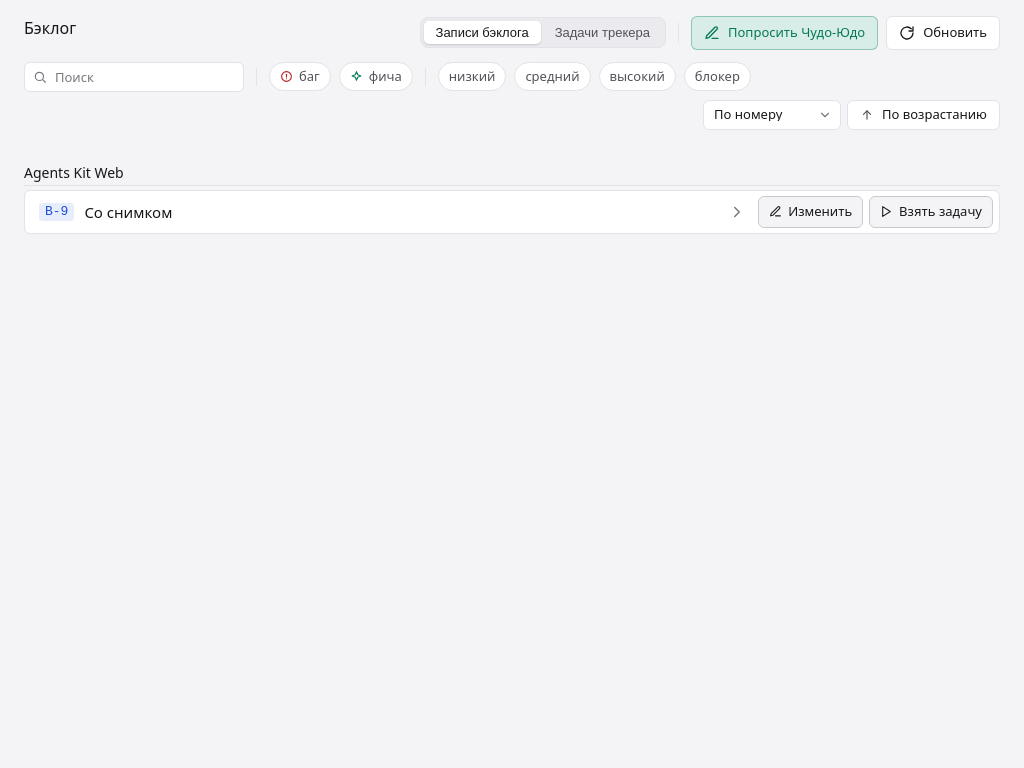
Test: файла артефакта нет в базе — строка ошибки под блоком
Step 1. Click the button "B-9 Со снимком" → (57,212), box x1=33 y1=194 x2=752 y2=229
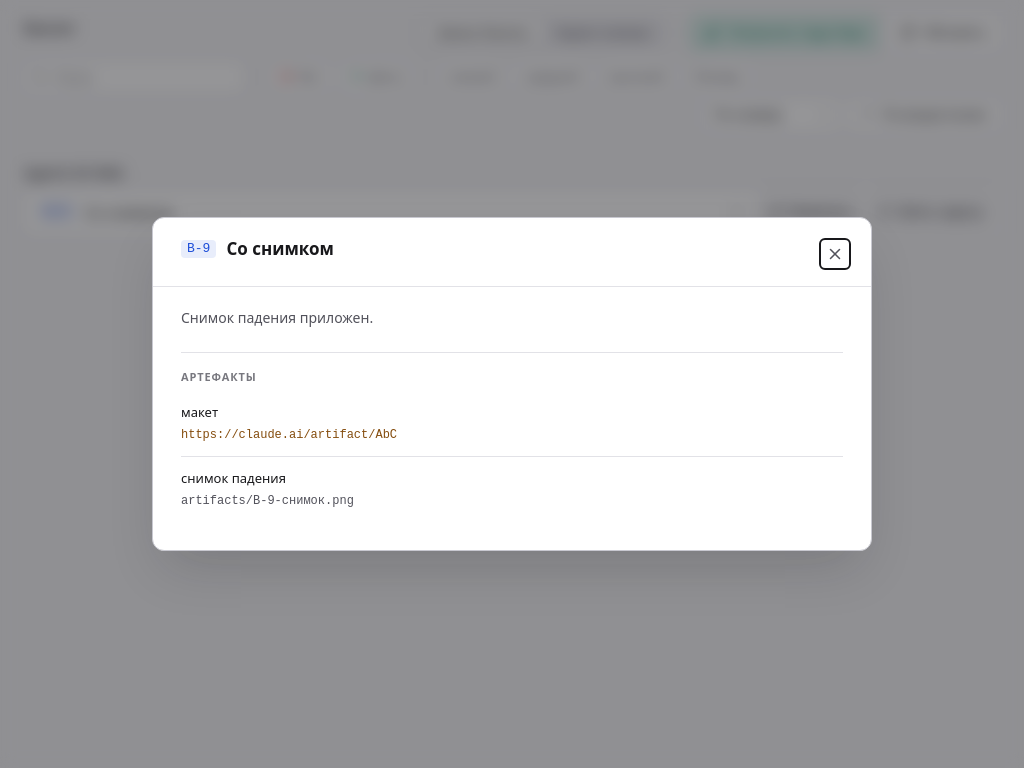
Step 2. Click the button "artifacts/B-9-снимок.png" → (267,501), box x1=181 y1=492 x2=354 y2=510
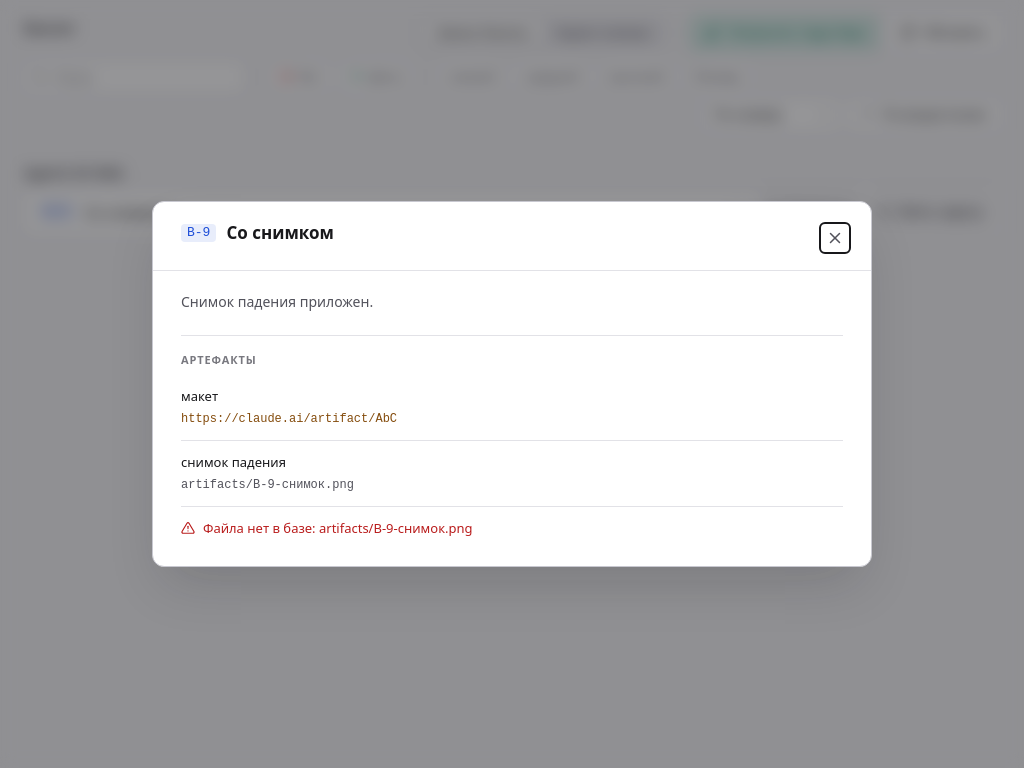
Expected: the message reads "Файла нет в базе: artifacts/B-9-снимок.png", x1=203 y1=518 x2=472 y2=536
